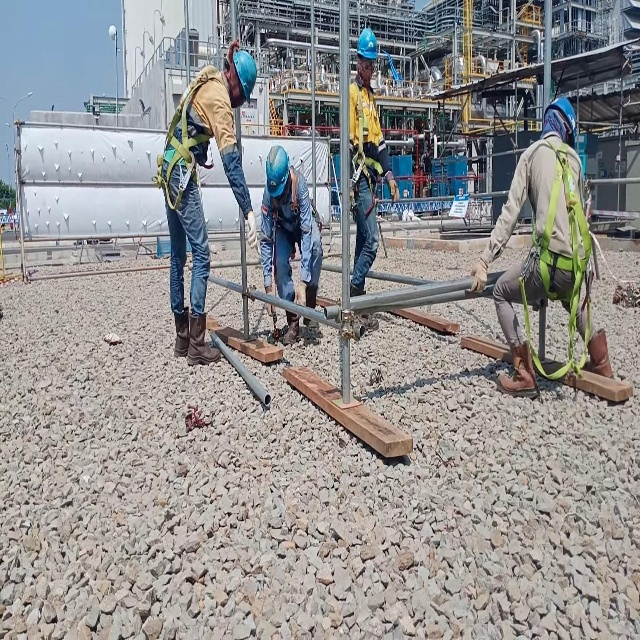Arnes_seguridad: (516, 138, 594, 387), (152, 63, 221, 209), (342, 73, 385, 215), (272, 170, 315, 250)
